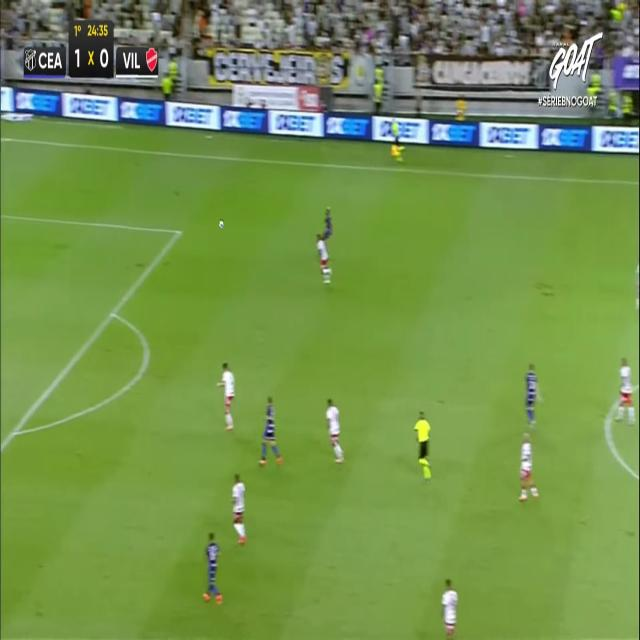ball: (218, 219, 224, 229)
player: (259, 396, 283, 467), (518, 432, 539, 500), (203, 530, 222, 604), (615, 355, 635, 422), (216, 362, 235, 430), (326, 396, 344, 463), (231, 472, 246, 544), (525, 362, 541, 427), (441, 578, 458, 639), (316, 233, 332, 284), (323, 206, 333, 255)
referee: (414, 409, 432, 479), (391, 116, 407, 163)
